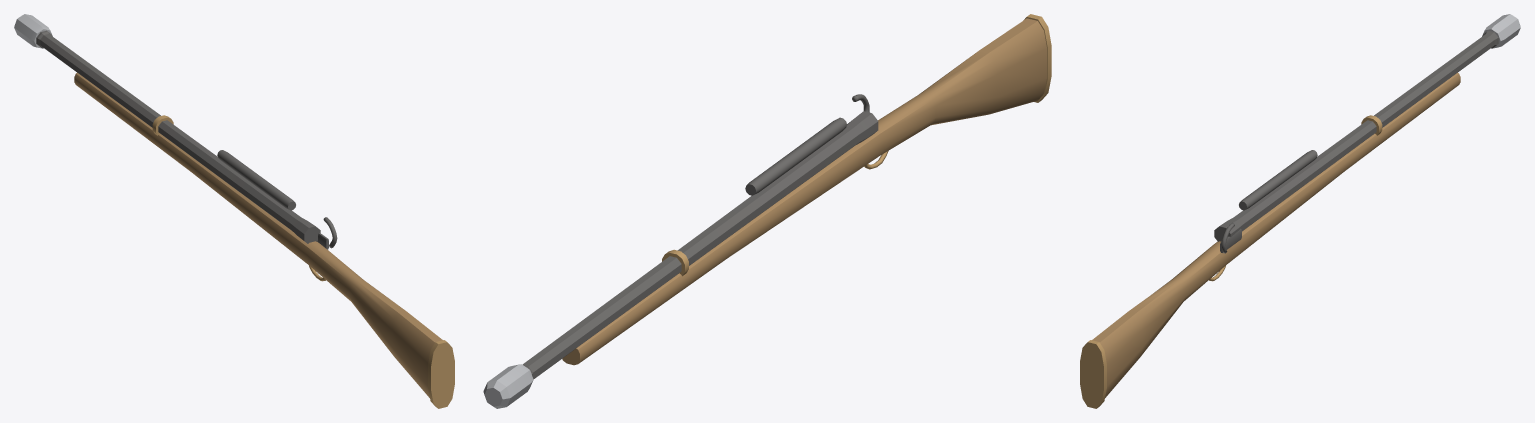
The model's file is thark-rifle.glb.
3 views of the same model, side by side, from view 1: azimuth 30°, elevation 25°; view 2: azimuth 150°, elevation 25°; view 3: azimuth 330°, elevation 25° (orthographic). The views are drawn at different scales.
Visible parts, largest first — view 1: thark-rifle; view 2: thark-rifle; view 3: thark-rifle.
Part boxes in pixels (left/top/right/bottom): thark-rifle: left=14, top=14, right=454, bottom=408; thark-rifle: left=483, top=14, right=1051, bottom=408; thark-rifle: left=1080, top=14, right=1520, bottom=408.
Size of the model in its own units: 0.1098 by 0.3906 by 3.1.
